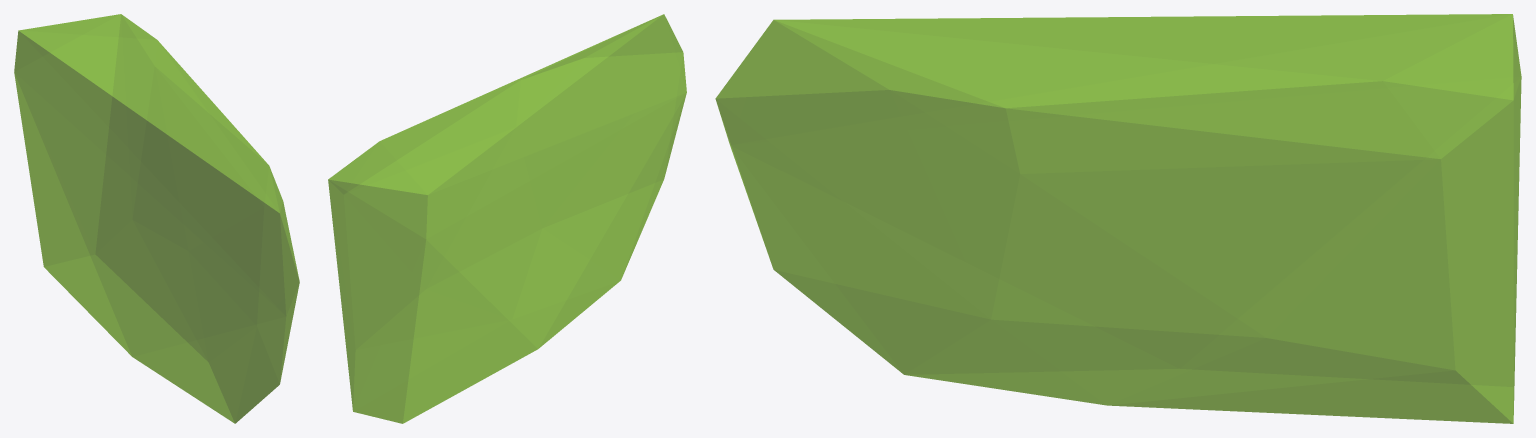
3 views of the same model, side by side, from view 1: azimuth 30°, elevation 25°; view 2: azimuth 150°, elevation 25°; view 3: azimuth 270°, elevation 25° (orthographic). The views are drawn at different scales.
Parts seen in each view (by area): view 1: Shape_IndexedFaceSet.120_Shape_IndexedFaceSet.9641; view 2: Shape_IndexedFaceSet.120_Shape_IndexedFaceSet.9641; view 3: Shape_IndexedFaceSet.120_Shape_IndexedFaceSet.9641.
Boxes of the visible parts, <box> form: Shape_IndexedFaceSet.120_Shape_IndexedFaceSet.9641: <box>14,14,299,423</box>; Shape_IndexedFaceSet.120_Shape_IndexedFaceSet.9641: <box>328,14,686,423</box>; Shape_IndexedFaceSet.120_Shape_IndexedFaceSet.9641: <box>715,14,1521,423</box>.
Bounding box in the file's own units: 0.0865 × 0.1779 × 0.366.
